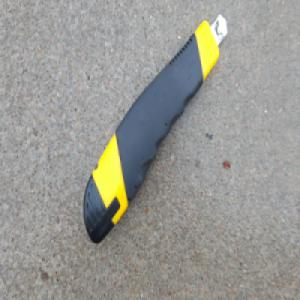Cutter: (83, 12, 229, 245)
